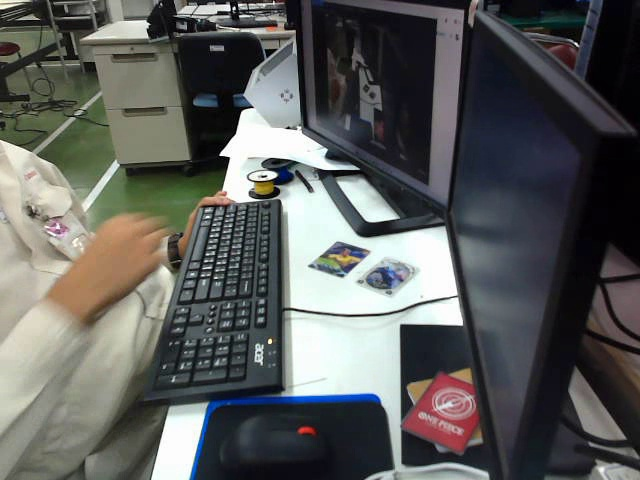can: (364, 256, 426, 296)
